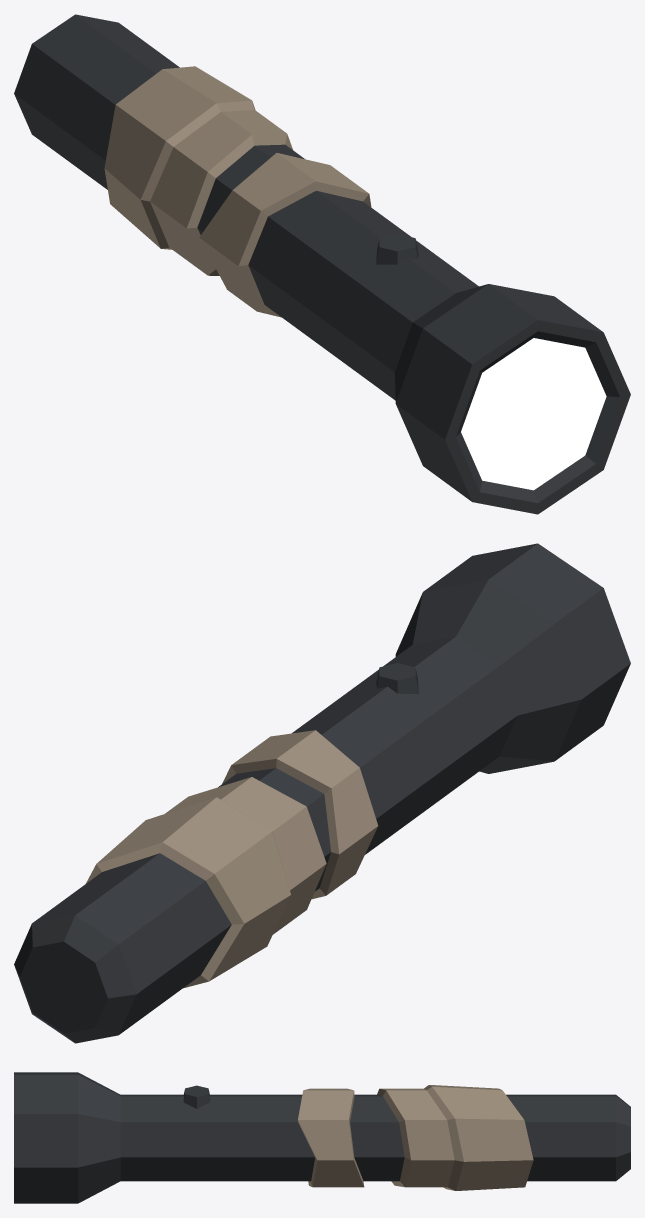
Rendered from SM_Prop_Flashlight_01.fbx.
The picture shows the model from 3 angles, top to bottom: view 1: azimuth 30°, elevation 25°; view 2: azimuth 150°, elevation 25°; view 3: azimuth 270°, elevation 25°; orthographic projection. The views are drawn at different scales.
Visible parts, largest first — view 1: SM_Prop_Flashlight_01; view 2: SM_Prop_Flashlight_01; view 3: SM_Prop_Flashlight_01.
Boxes of the visible parts, left/top/right/bottom form: SM_Prop_Flashlight_01: left=14, top=14, right=630, bottom=514; SM_Prop_Flashlight_01: left=14, top=543, right=630, bottom=1043; SM_Prop_Flashlight_01: left=14, top=1072, right=630, bottom=1203.
Bounding box in the file's own units: 10.09 × 10.09 × 44.54.
